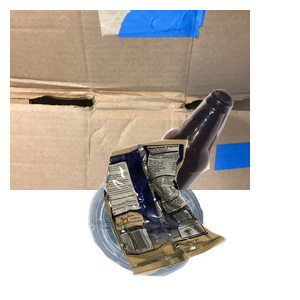cardboard: (10, 10, 250, 190)
glass: (130, 87, 300, 267)
plastic: (86, 163, 282, 300)
trash: (101, 137, 300, 300)
